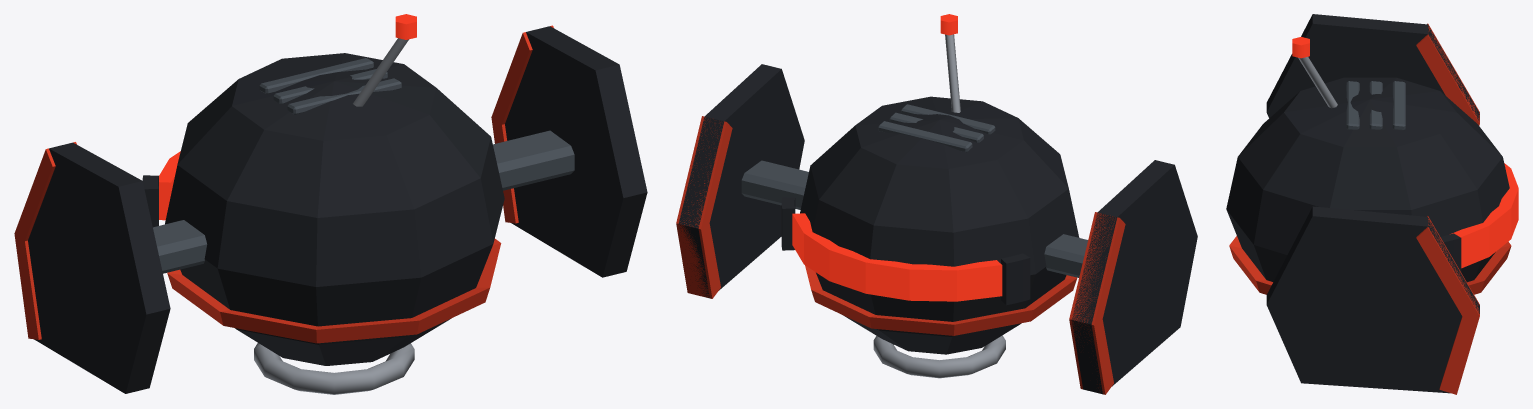
File: sentinel.glb
3 views of the same model, side by side, from view 1: azimuth 30°, elevation 25°; view 2: azimuth 150°, elevation 25°; view 3: azimuth 270°, elevation 25° (orthographic). The views are drawn at different scales.
Visible parts, largest first — view 1: sentinel_mesh; view 2: sentinel_mesh; view 3: sentinel_mesh.
Boxes of the visible parts, x1=… form: sentinel_mesh: x1=14, y1=14, x2=647, y2=394; sentinel_mesh: x1=676, y1=14, x2=1197, y2=394; sentinel_mesh: x1=1226, y1=14, x2=1518, y2=394.
Size of the model in its own units: 1.68 by 1.17 by 1.01.
